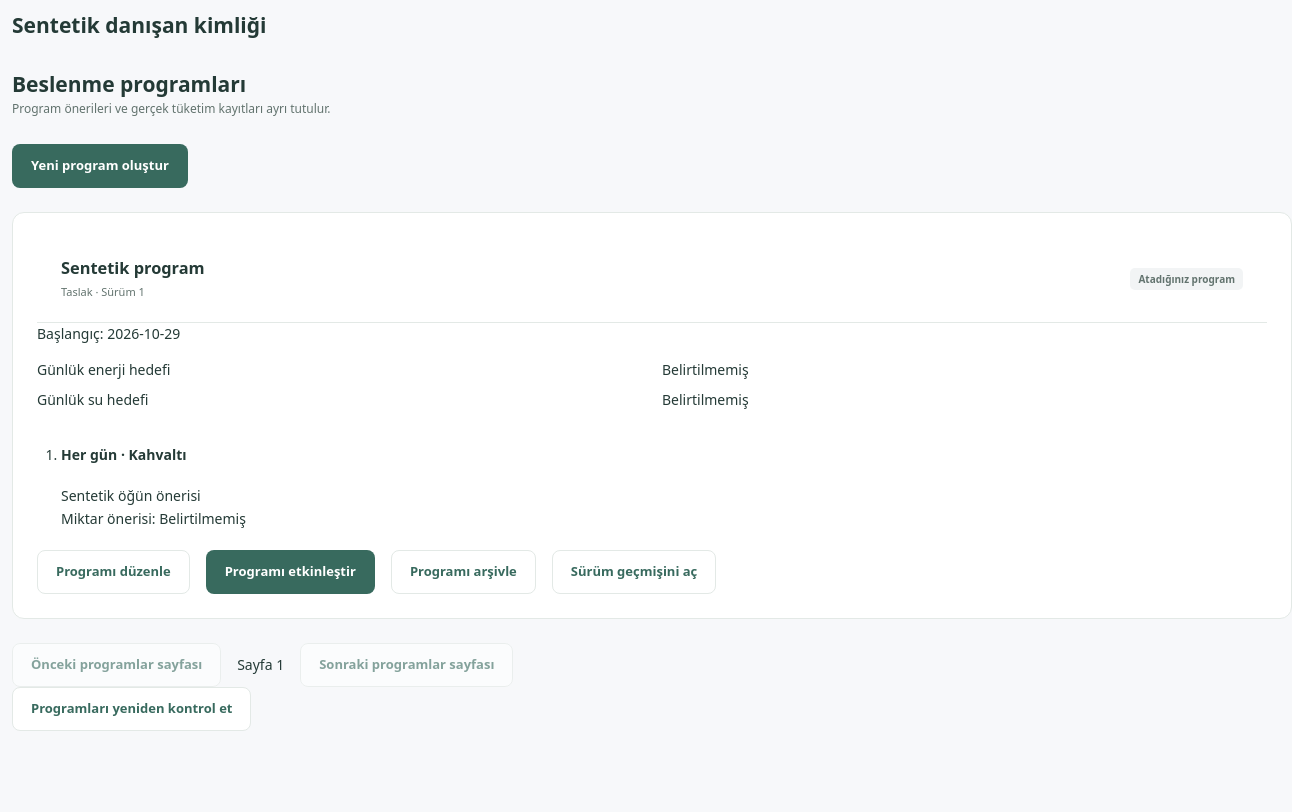
Test: nutrition program workspace › shows activation success only after the explicit bodyless CSRF request is confirmed
Click the button "Programı etkinleştir": coordinates (290, 572) [206,550,375,594]
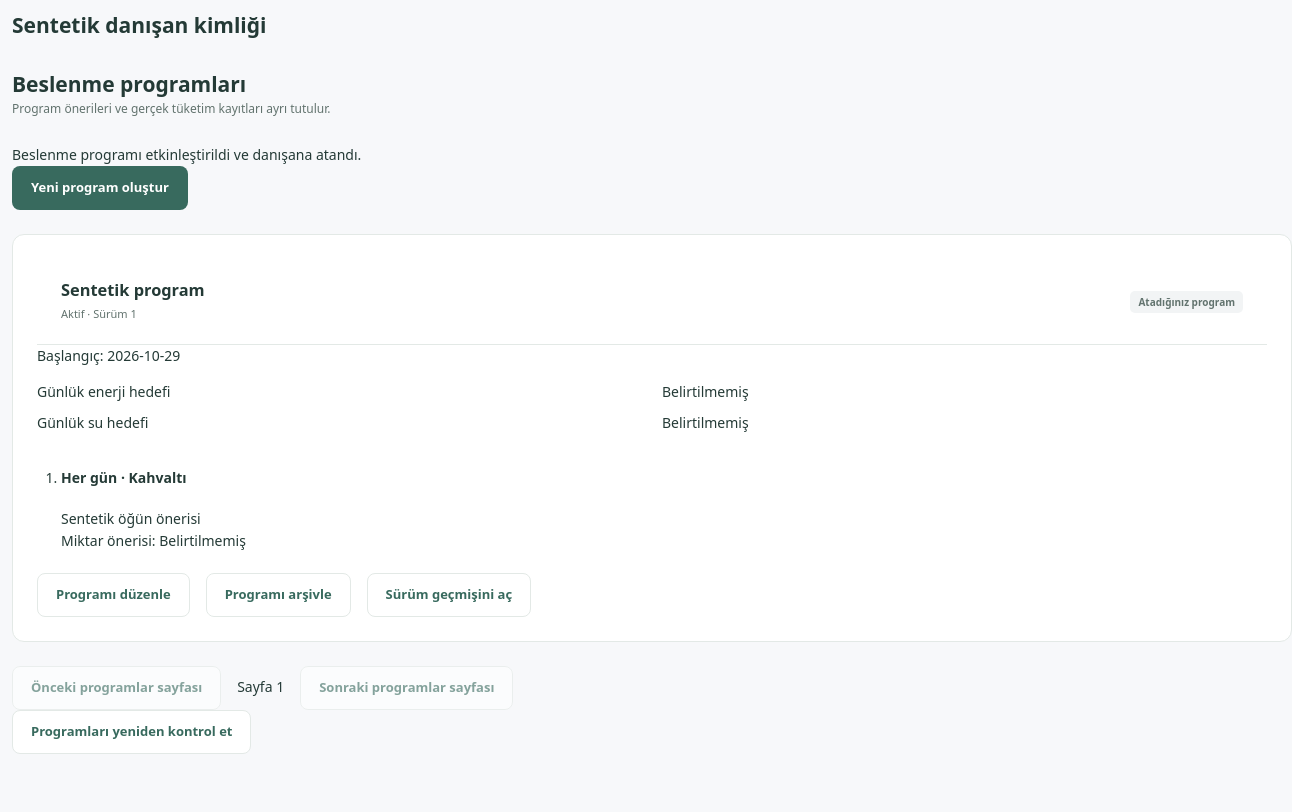
Now the text "Beslenme programı etkinleştirildi ve danışana atandı." is shown, box [12,145,361,164]
